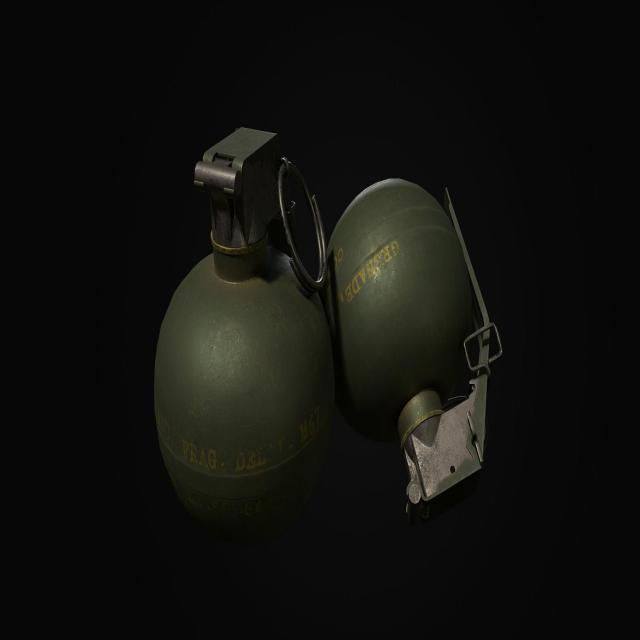grenade: (153, 123, 338, 542), (322, 175, 506, 529)
